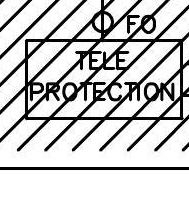tele_protection: (22, 37, 185, 123)
